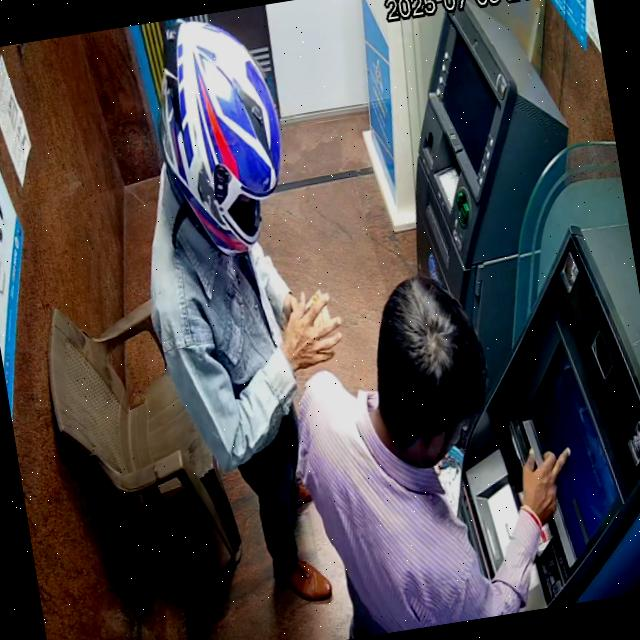helmet: (157, 19, 280, 262)
no_helmet: (368, 274, 489, 467)
